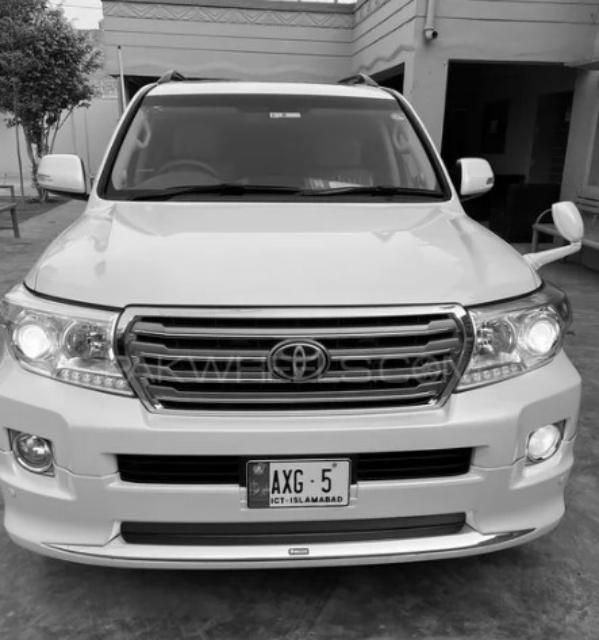Number: (268, 464, 338, 494)
